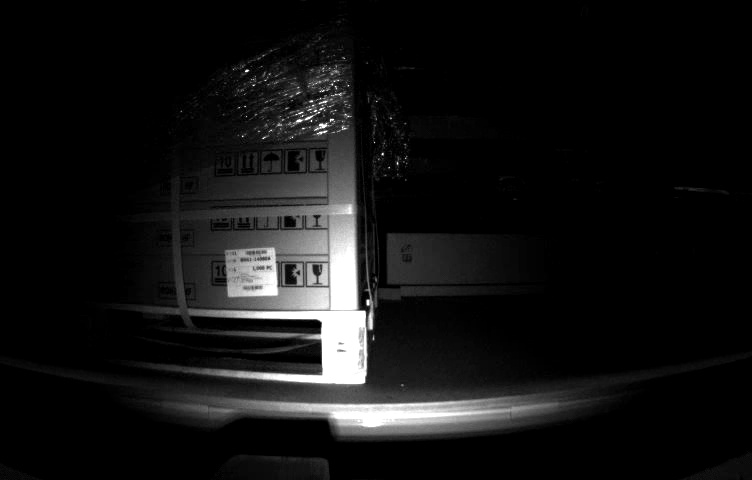True Barcode: (222, 249, 279, 297)
